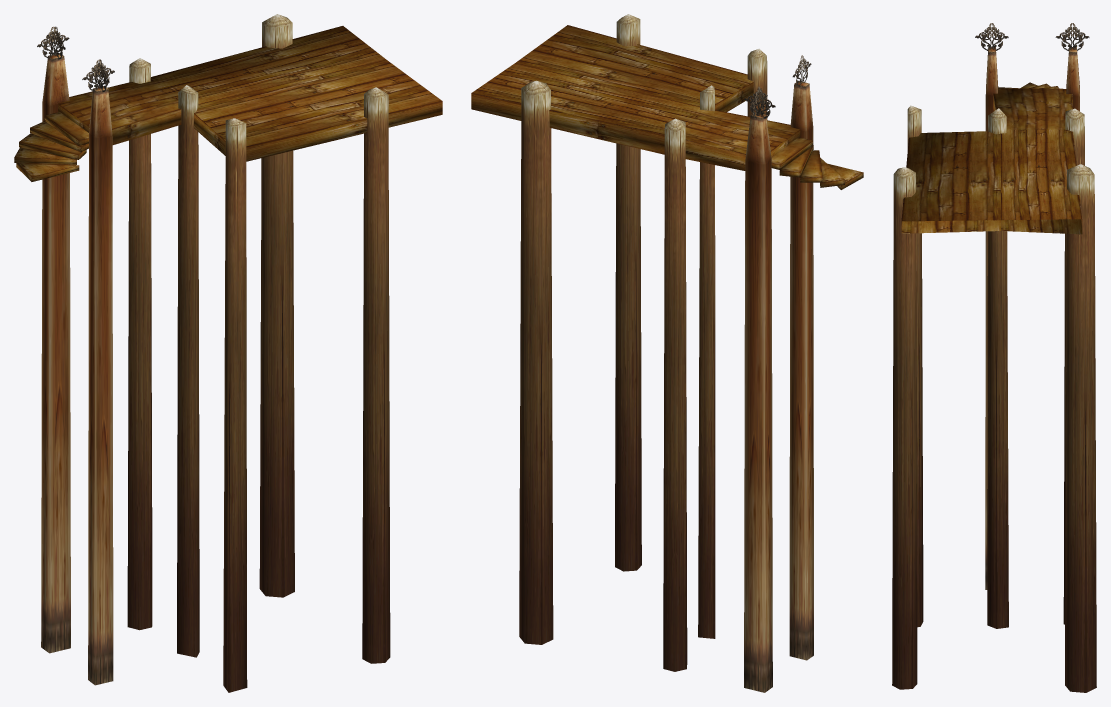
Rendered from smalldock.glb.
3 renders of one model, left to right at view 1: azimuth 30°, elevation 25°; view 2: azimuth 150°, elevation 25°; view 3: azimuth 270°, elevation 25°, orthographic. The views are drawn at different scales.
Size of the model in its own units: 15.95 by 26.48 by 8.7.
4 materials, 4 textured.
